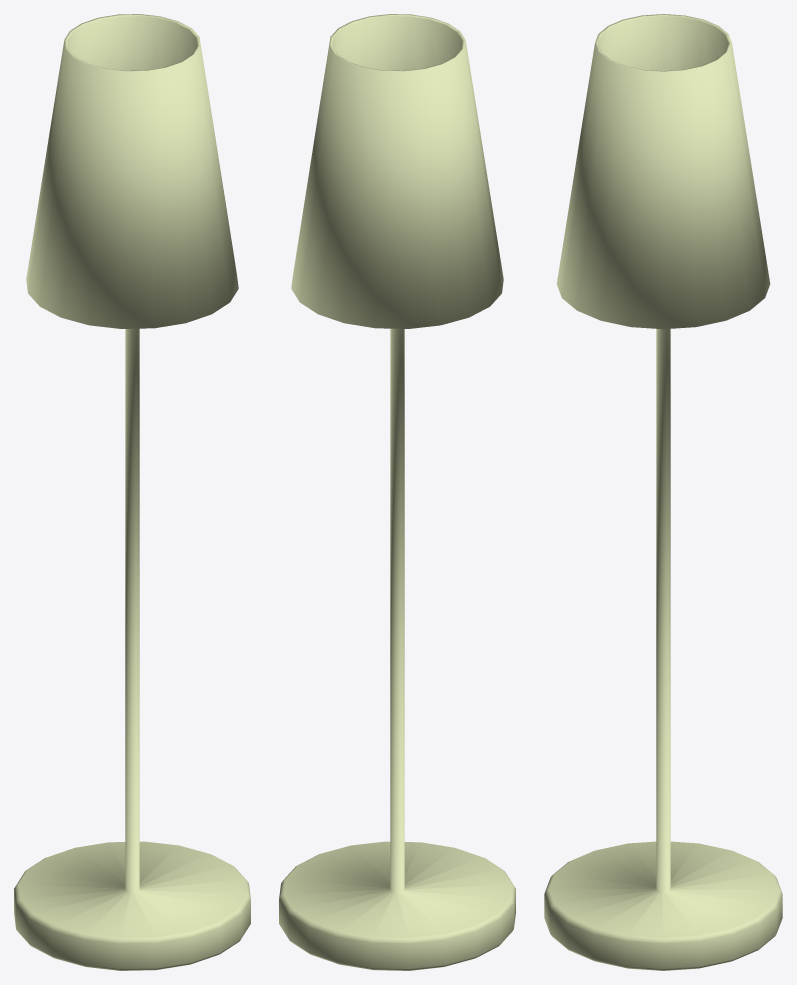
Rendered from Sala_Lampara_04.fbx.
The picture shows the model from 3 angles, left to right: view 1: azimuth 30°, elevation 25°; view 2: azimuth 150°, elevation 25°; view 3: azimuth 270°, elevation 25°; orthographic projection.
Visible parts, largest first — view 1: Cylinder001, lamp; view 2: Cylinder001, lamp; view 3: Cylinder001, lamp.
Boxes of the visible parts, bbox=[...] form: Cylinder001: bbox=[26, 14, 238, 328]; lamp: bbox=[14, 328, 250, 970]; Cylinder001: bbox=[291, 14, 503, 328]; lamp: bbox=[279, 328, 515, 970]; Cylinder001: bbox=[556, 14, 770, 329]; lamp: bbox=[544, 329, 782, 970].
Bounding box in the file's own units: 12.15 × 49.55 × 12.15.
Materials: 1 (1 with a texture image).
